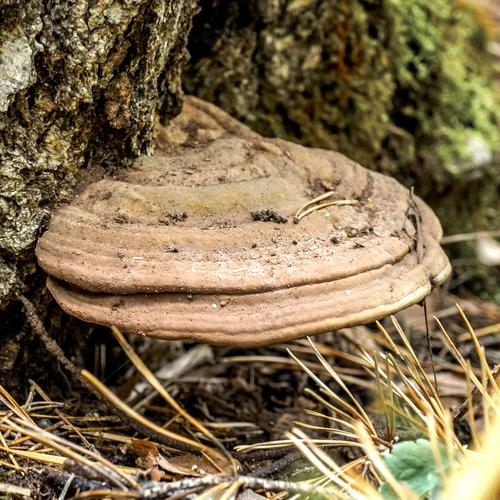Ganoderma - Fruit Body: (23, 89, 458, 354)
